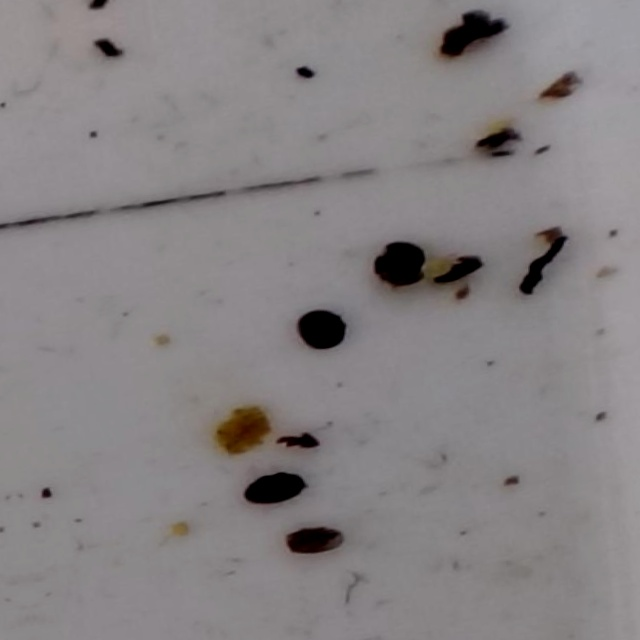varroa: (369, 240, 431, 291), (292, 305, 351, 357), (238, 467, 309, 508)
